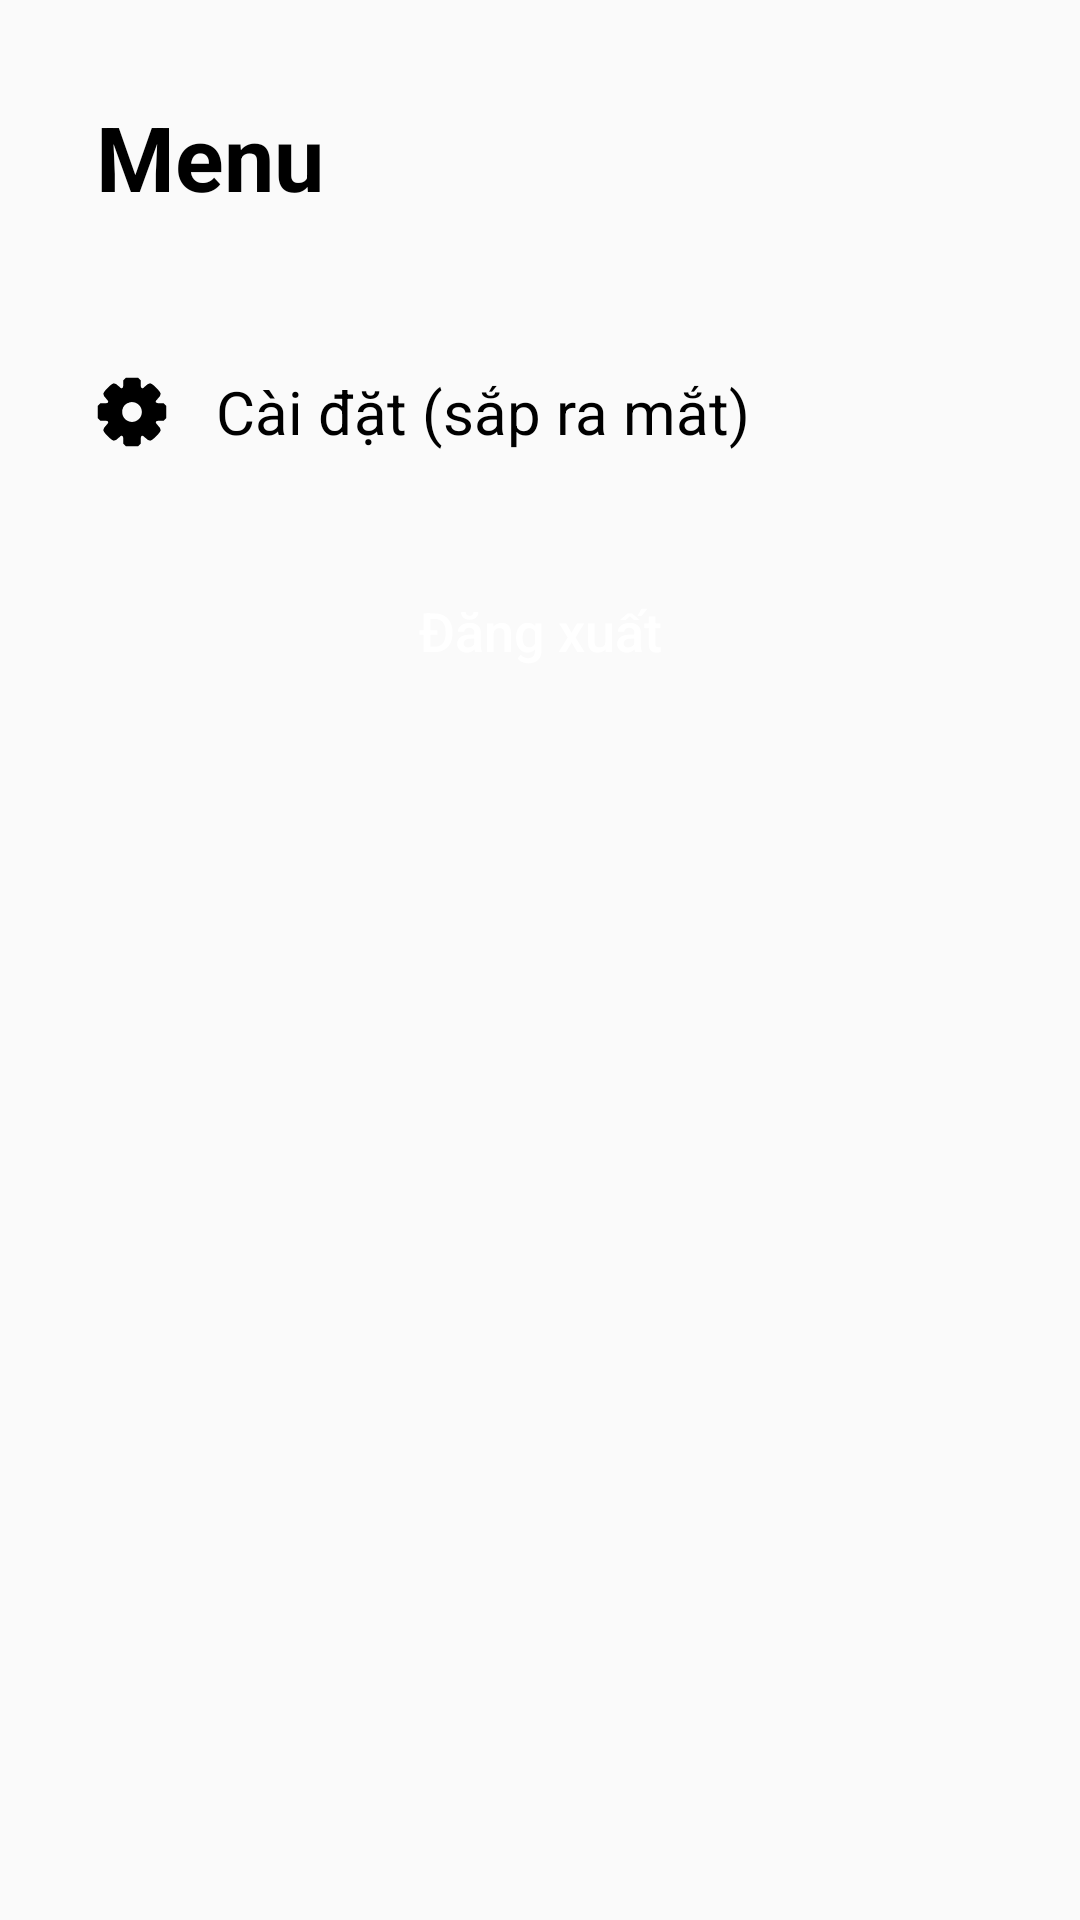

Where to tap for icons on this 1080w x 1920h app screen, as (x,y):
setting: (132,412)
